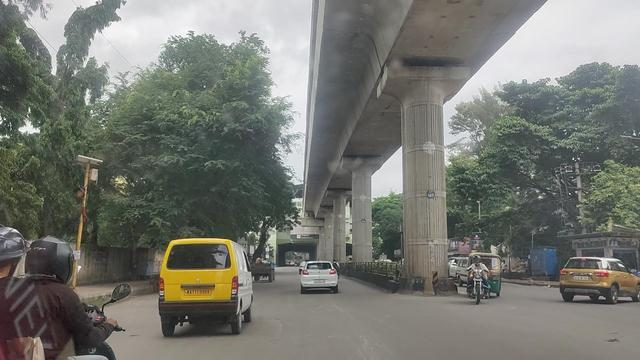LMV: (159, 240, 254, 332), (301, 263, 339, 292)
RoadDamages: (353, 325, 384, 360), (257, 313, 293, 340)
